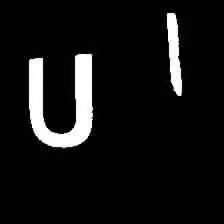LTR_U: (20, 49, 103, 149)
